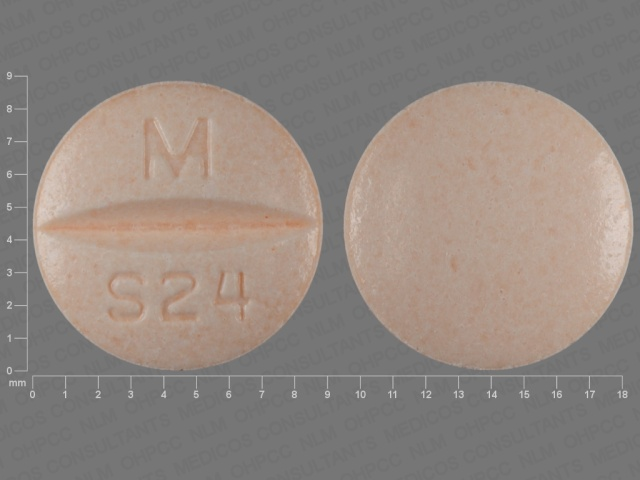2: (154, 266, 199, 323)
4: (209, 266, 254, 322)
M: (136, 109, 216, 186)
S: (104, 266, 154, 325)
|: (29, 188, 329, 256)
